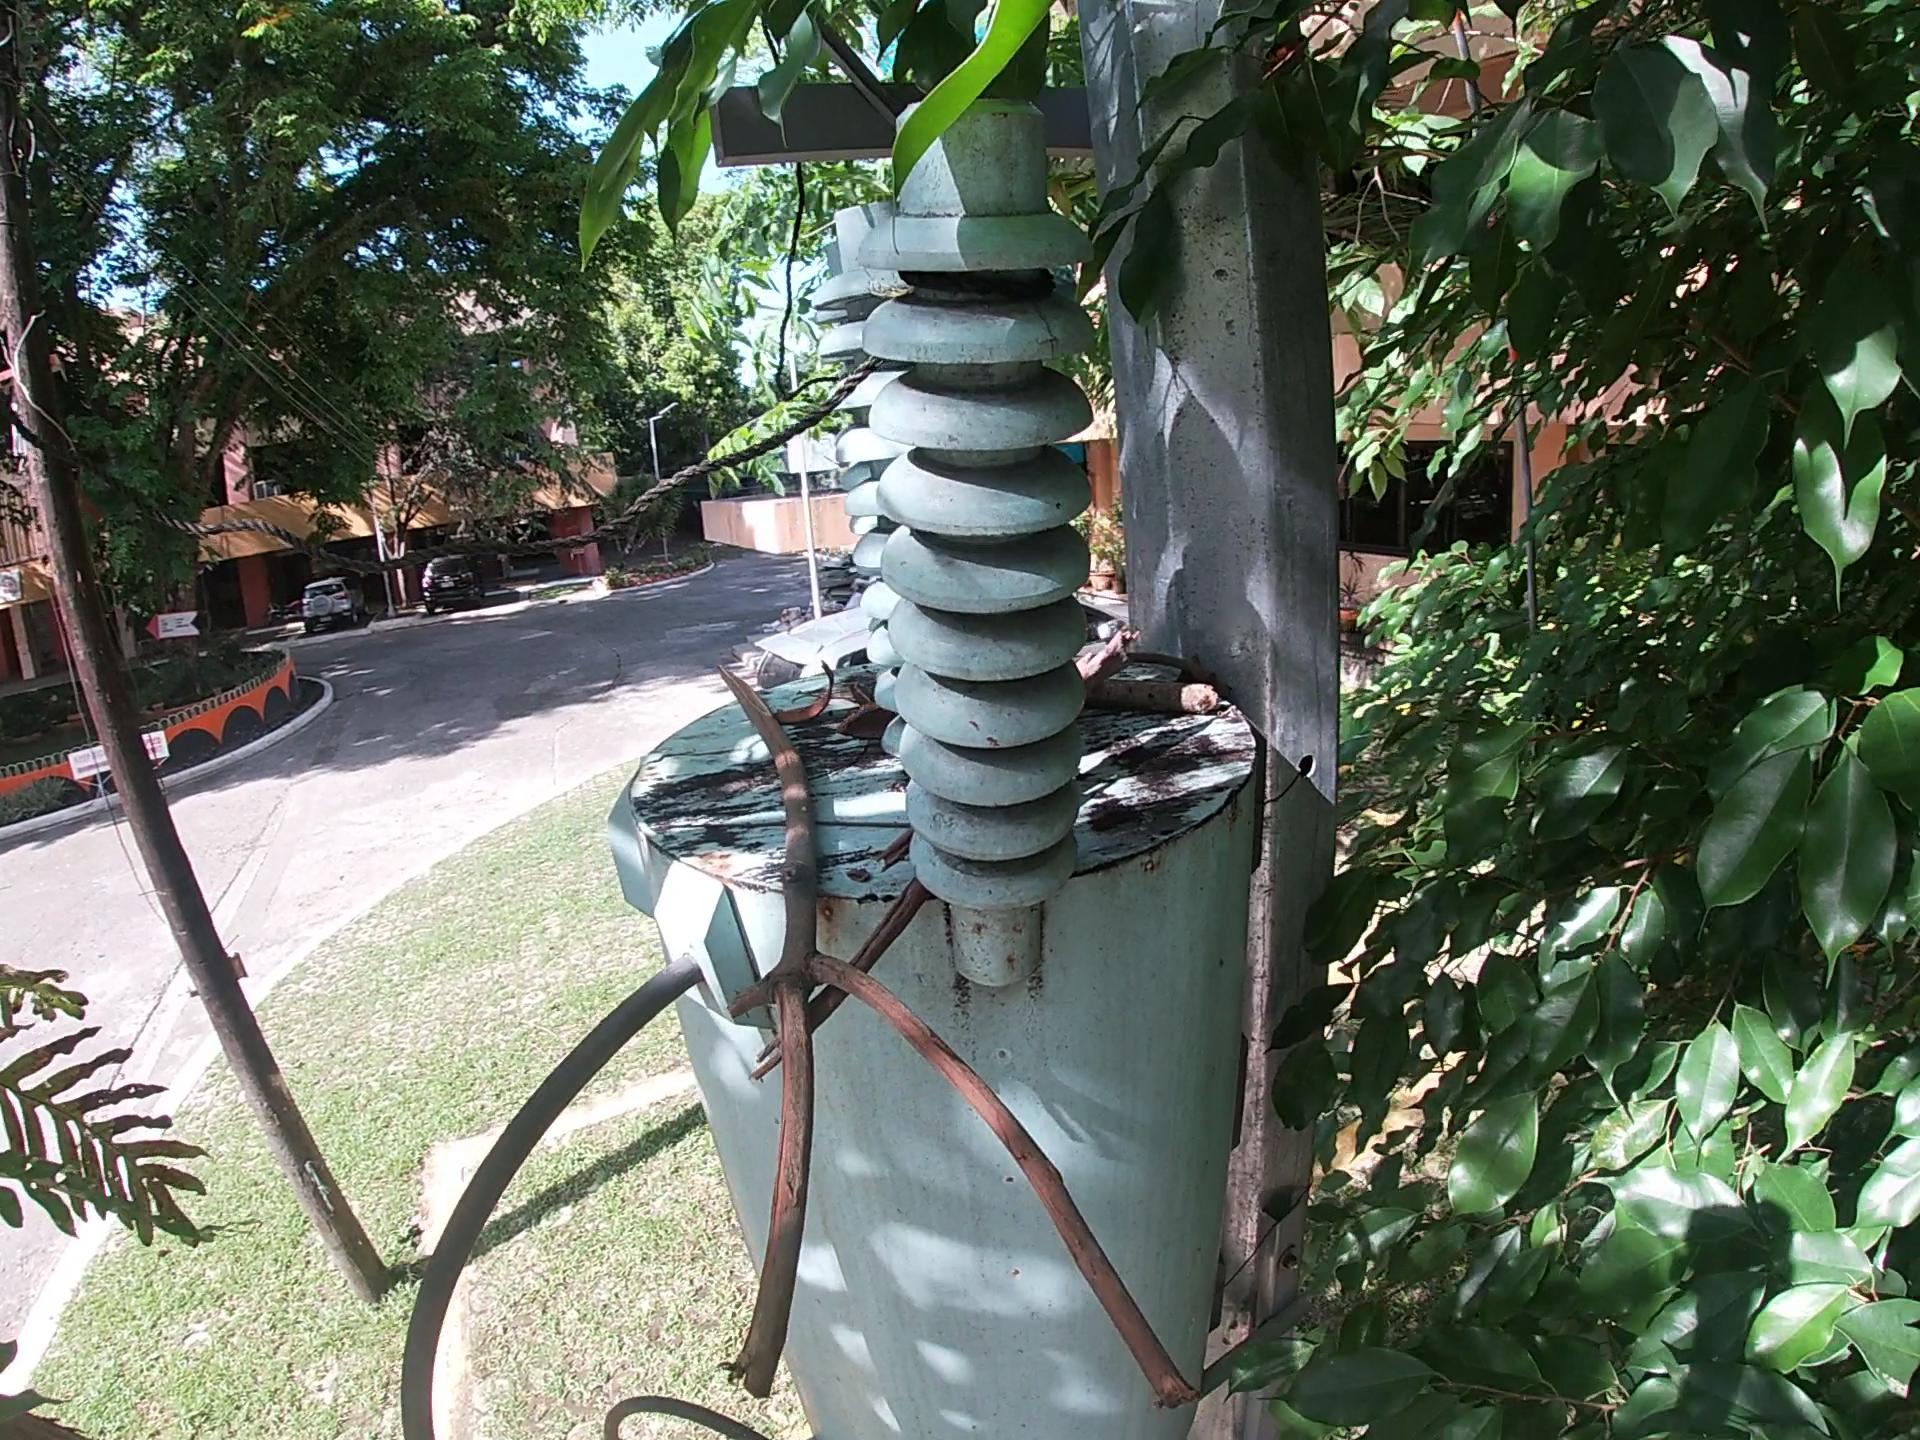mahogany fruit: (768, 658, 842, 728), (838, 700, 900, 749)
tree branch: (700, 655, 1206, 1423), (742, 864, 942, 1094), (1082, 672, 1231, 715), (1120, 644, 1226, 691), (1073, 629, 1137, 691)
